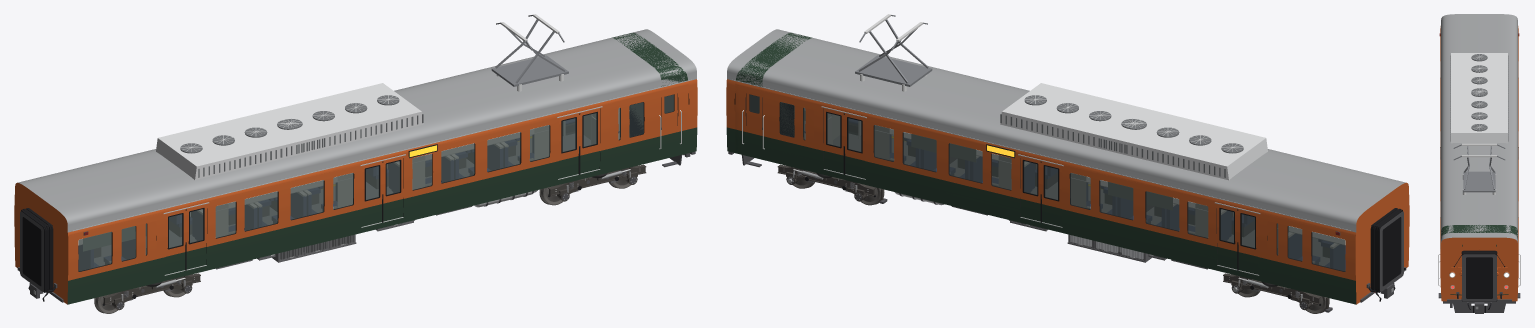
The picture shows the model from 3 angles, left to right: view 1: azimuth 30°, elevation 25°; view 2: azimuth 150°, elevation 25°; view 3: azimuth 270°, elevation 25°; orthographic projection. The views are drawn at different scales.
Visible parts, largest first — view 1: 115_cab, 115_mid, 115_mid_panto, 115_mid_seats, 115_cab_fine, 115_cab_seats, 115_mid_panto_fine, 115_cab_door2_R_a, 115_cab_door2_R_b, 115_cab_sal, 115_mid_door2_R_b, 115_mid_door1_R_a (+9 smaller); view 2: 115_cab, 115_mid, 115_mid_panto, 115_mid_seats, 115_cab_fine, 115_cab_seats, 115_mid_sal, 115_mid_panto_fine, 115_cab_door0_L_b, 115_cab_door0_L_a, 115_cab_door2_L_b, 115_cab_door2_L_a (+9 smaller); view 3: 115_cab, 115_mid, 115_mid_panto, 115_mid_fine, 115_cab_fine, 115_mid_panto_fine.
Part boxes in pixels (<box>): 115_cab: <box>14,32,695,310</box>; 115_mid: <box>14,29,697,304</box>; 115_mid_panto: <box>122,14,673,269</box>; 115_mid_seats: <box>78,113,619,270</box>; 115_cab_fine: <box>18,95,681,308</box>; 115_cab_seats: <box>78,107,619,267</box>; 115_mid_panto_fine: <box>180,119,533,259</box>; 115_cab_door2_R_a: <box>165,209,186,274</box>; 115_cab_door2_R_b: <box>186,204,206,269</box>; 115_cab_sal: <box>83,111,619,250</box>; 115_mid_door2_R_b: <box>579,109,600,173</box>; 115_mid_door1_R_a: <box>362,161,382,226</box>; 115_cab: <box>728,32,1409,312</box>; 115_mid: <box>726,29,1409,303</box>; 115_mid_panto: <box>750,14,1301,269</box>; 115_mid_seats: <box>890,131,1345,270</box>; 115_cab_fine: <box>742,95,1405,308</box>; 115_cab_seats: <box>804,107,1345,267</box>; 115_mid_sal: <box>781,102,1206,235</box>; 115_mid_panto_fine: <box>1070,119,1243,259</box>; 115_cab_door0_L_b: <box>823,108,844,174</box>; 115_cab_door0_L_a: <box>844,113,865,178</box>; 115_cab_door2_L_b: <box>1217,204,1237,270</box>; 115_cab_door2_L_a: <box>1237,209,1258,274</box>; 115_cab: <box>1439,14,1519,313</box>; 115_mid: <box>1440,14,1518,302</box>; 115_mid_panto: <box>1451,53,1507,194</box>; 115_mid_fine: <box>1457,250,1501,309</box>; 115_cab_fine: <box>1438,89,1520,298</box>; 115_mid_panto_fine: <box>1450,54,1508,99</box>.
Bounding box in the file's own units: 20.15 × 5.15 × 3.04.
51 materials, 1 textured.
